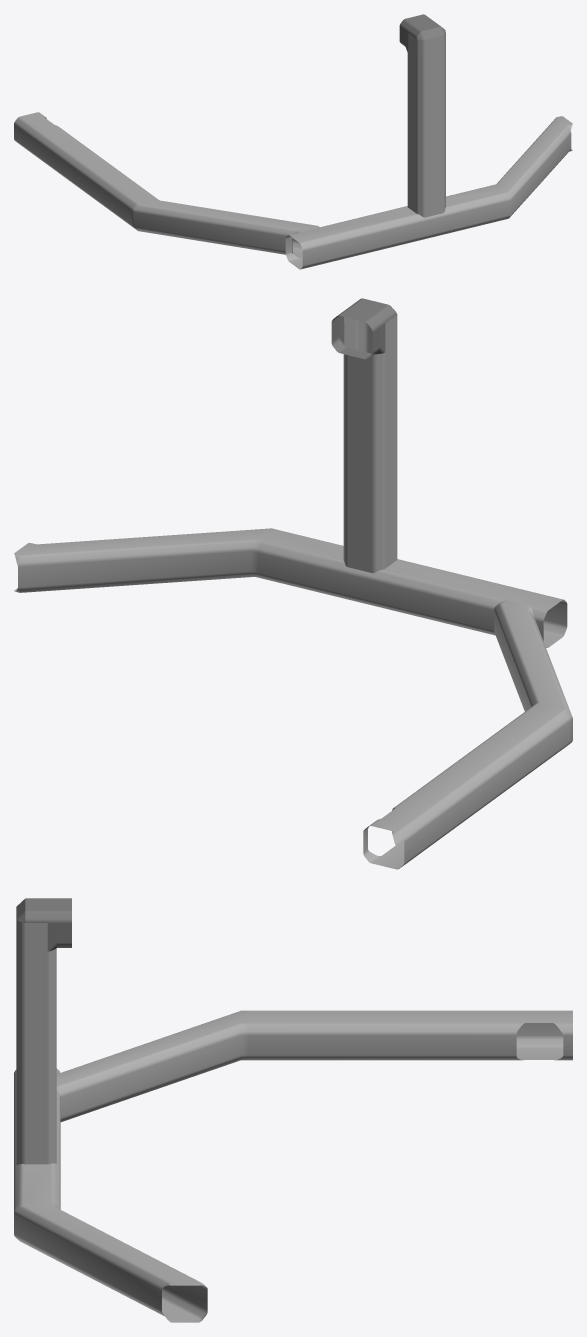
Rendered from tunul_UV.fbx.
The picture shows the model from 3 angles, top to bottom: view 1: azimuth 30°, elevation 25°; view 2: azimuth 150°, elevation 25°; view 3: azimuth 270°, elevation 25°; orthographic projection. The views are drawn at different scales.
Parts seen in each view (by area): view 1: tunul.011, tunul.012, tunul.002; view 2: tunul.012, tunul.011, tunul.002; view 3: tunul.011, tunul.012, tunul.002.
Boxes of the visible parts, left/top/right/bottom form: tunul.011: left=14, top=112, right=319, bottom=258; tunul.012: left=285, top=116, right=572, bottom=269; tunul.002: left=399, top=14, right=445, bottom=217; tunul.012: left=14, top=528, right=567, bottom=647; tunul.011: left=363, top=600, right=572, bottom=869; tunul.002: left=331, top=298, right=397, bottom=573; tunul.011: left=56, top=1010, right=572, bottom=1121; tunul.012: left=14, top=1068, right=207, bottom=1322; tunul.002: left=16, top=898, right=71, bottom=1164.
Size of the model in its own units: 1852 by 888 by 1570.
Materials: 4 (3 with a texture image).
